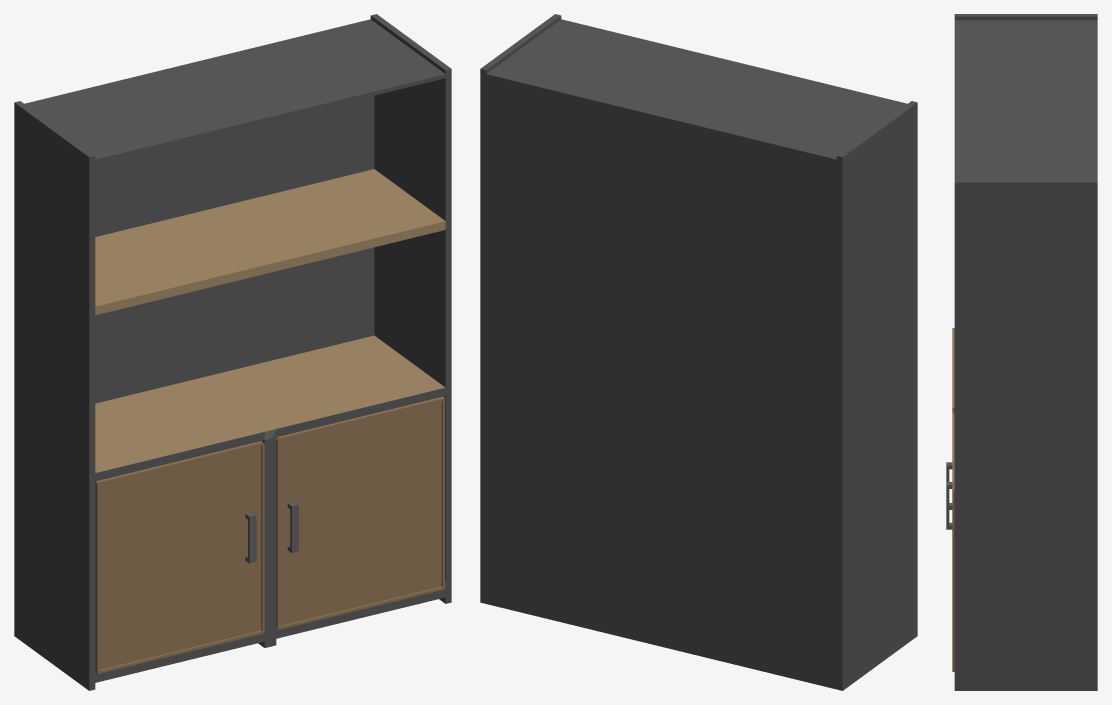
Rendered from Cabinet_RuanganBoss.fbx.
3 views of the same model, side by side, from view 1: azimuth 30°, elevation 25°; view 2: azimuth 150°, elevation 25°; view 3: azimuth 270°, elevation 25° (orthographic). The views are drawn at different scales.
Visible parts, largest first — view 1: Cabinet, Cabiner_Drawer2, Cabinet_Drawer1; view 2: Cabinet; view 3: Cabinet, Cabinet_Drawer1, Cabiner_Drawer2.
Part boxes in pixels (<box>): Cabinet: <box>14,14,451,690</box>; Cabiner_Drawer2: <box>95,441,264,673</box>; Cabinet_Drawer1: <box>276,396,444,629</box>; Cabinet: <box>480,14,917,690</box>; Cabinet: <box>954,14,1097,690</box>; Cabinet_Drawer1: <box>946,412,954,671</box>; Cabiner_Drawer2: <box>946,328,954,509</box>.
Size of the model in its own units: 358 by 504 by 136.
